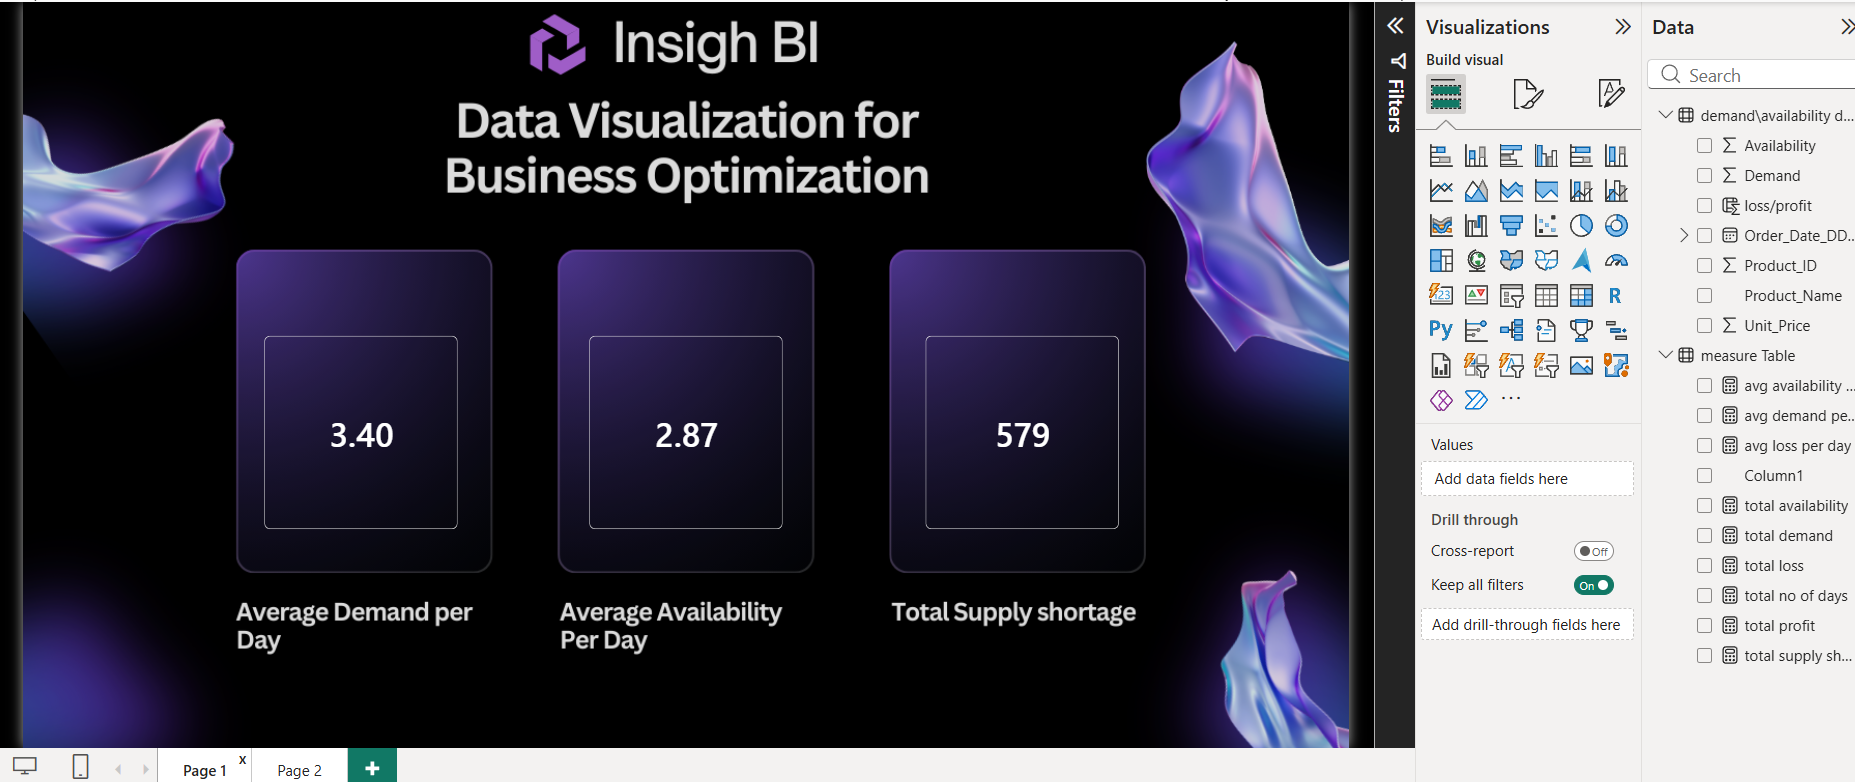

This screenshot's page, from the dashboard's own definition file:
{"tool":"powerbi","page":{"name":"Page 1","canvas":[1920,1080],"ordinal":0},"visuals":[{"type":"cardVisual","fields":{"Data":["measure Table.avg demand per day"]},"box":[350,484,280,280],"z":0},{"type":"cardVisual","fields":{"Data":["measure Table.avg availability per day"]},"box":[820,484,280,280],"z":1000},{"type":"cardVisual","fields":{"Data":["measure Table.total supply shortage"]},"box":[1306,484,280,280],"z":2000}]}

Visuals, with their boxes on the page's 1920x1080 design canvas (x1, y1, x2, y2). These are canvas units, not pixel positions in the 1855x782 screenshot, which may show the page scaled, cropped or inside an application window:
cardVisual - measure Table.avg demand per day: [x1=350, y1=484, x2=630, y2=764]
cardVisual - measure Table.avg availability per day: [x1=820, y1=484, x2=1100, y2=764]
cardVisual - measure Table.total supply shortage: [x1=1306, y1=484, x2=1586, y2=764]
